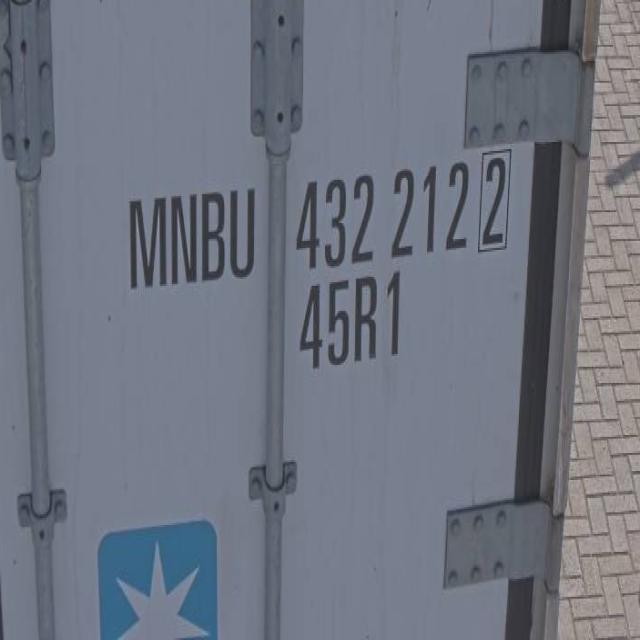dv: (478, 145, 512, 263)
owner: (118, 168, 261, 298)
serial: (290, 152, 470, 272)
size: (294, 271, 416, 377)
